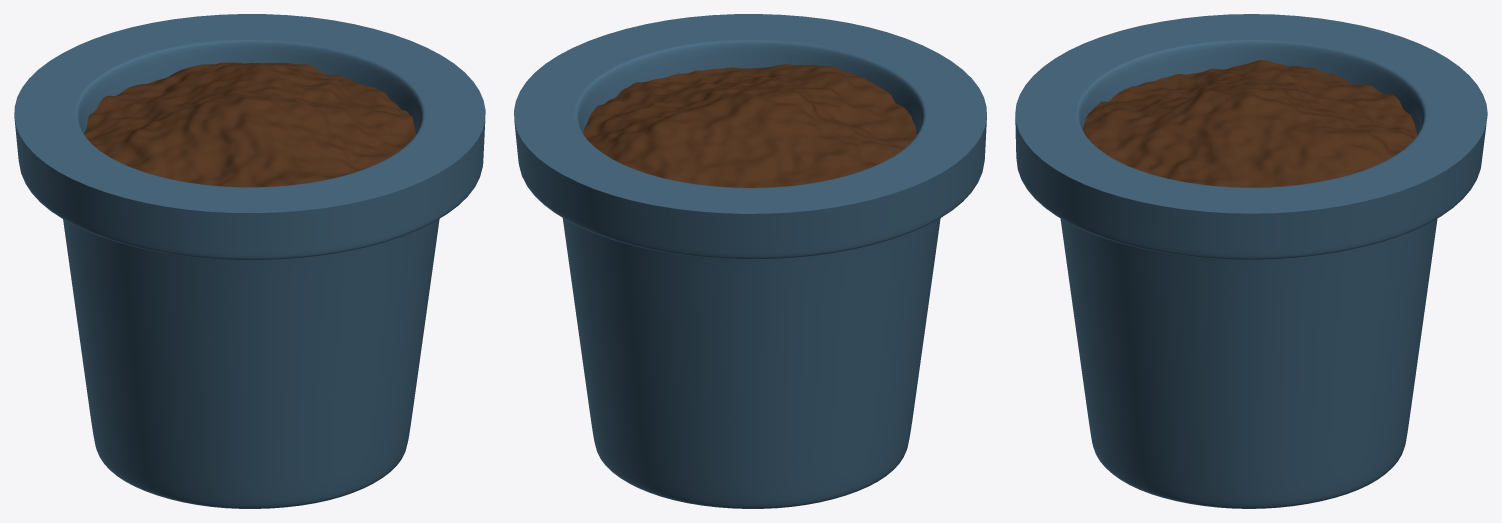
The model's file is plant01.fbx.
3 renders of one model, left to right at view 1: azimuth 30°, elevation 25°; view 2: azimuth 150°, elevation 25°; view 3: azimuth 270°, elevation 25°, orthographic.
Parts seen in each view (by area): view 1: pot, earth; view 2: pot, earth; view 3: pot, earth.
Part boxes in pixels (<box>): pot: <box>14,14,485,508</box>; earth: <box>84,62,415,187</box>; pot: <box>514,14,986,508</box>; earth: <box>583,64,916,187</box>; pot: <box>1015,14,1487,508</box>; earth: <box>1083,60,1417,187</box>.
Size of the model in its own units: 318 by 258 by 318.
